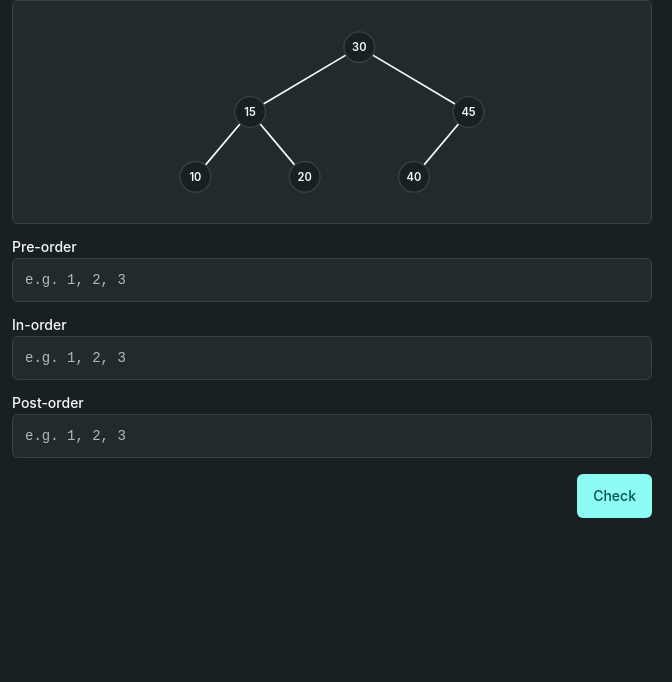
Test: shows the answers after a wrong check
The image size is (672, 682).
Click the button "Check": point(615, 496) [577,474,652,518]
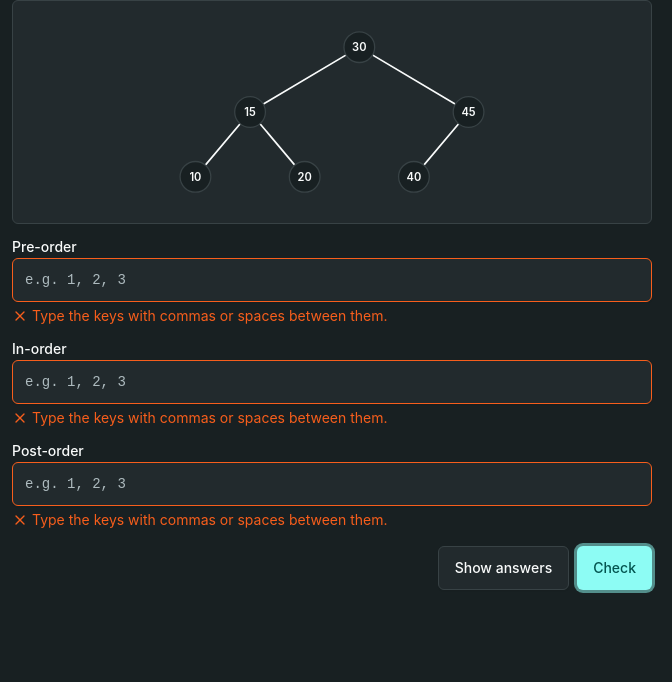
Click the button "Show answers": point(503, 568) [438,546,569,590]
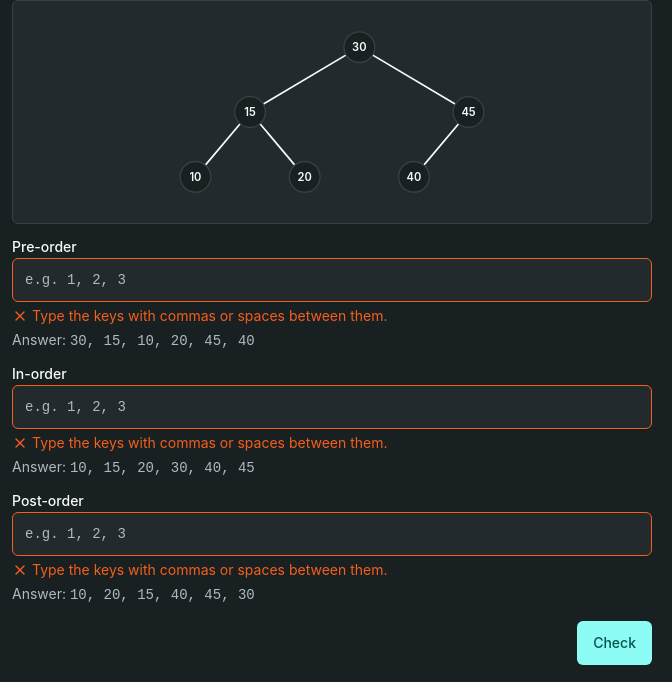
Result: the text "30, 15, 10, 20, 45, 40" is shown at [70,333,255,349]
Result: the text "10, 15, 20, 30, 40, 45" is shown at [70,460,255,476]
Result: the text "10, 20, 15, 40, 45, 30" is shown at [70,587,255,603]
